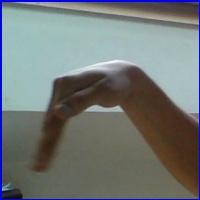A: (36, 53, 169, 181)
